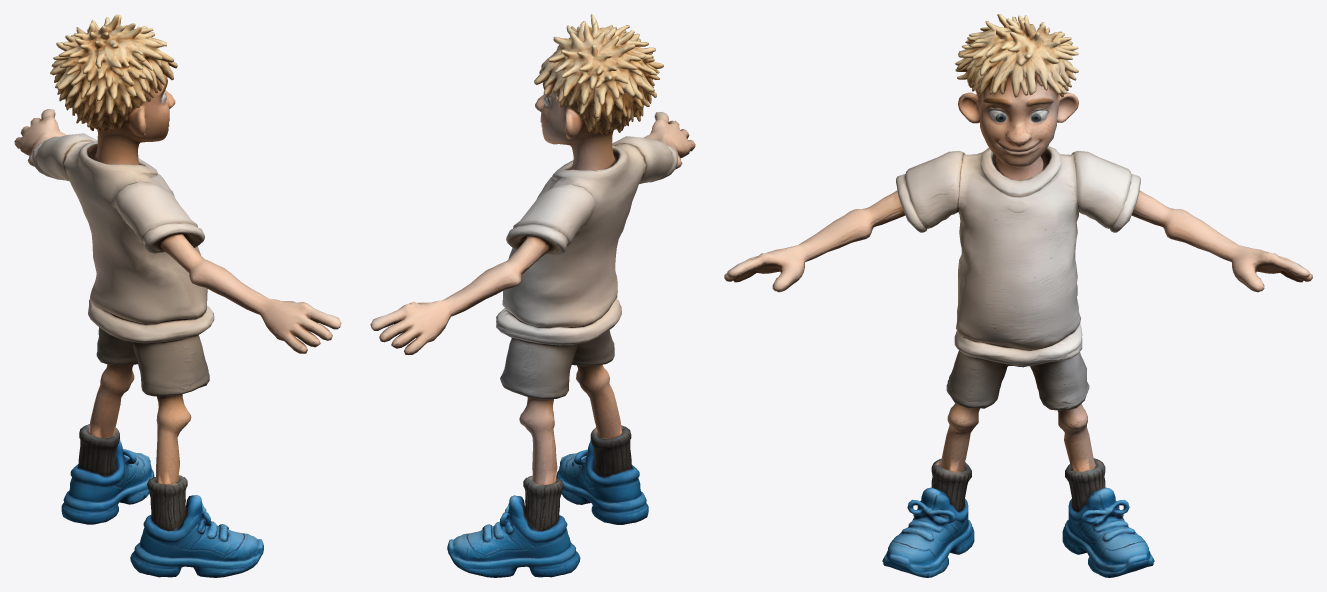
The picture shows the model from 3 angles, left to right: view 1: azimuth 30°, elevation 25°; view 2: azimuth 150°, elevation 25°; view 3: azimuth 270°, elevation 25°; orthographic projection.
Visible parts, largest first — view 1: tripo_node_18aa86af; view 2: tripo_node_18aa86af; view 3: tripo_node_18aa86af.
Boxes of the visible parts, x1,y1,x2,y2 form: tripo_node_18aa86af: (14, 14, 341, 577); tripo_node_18aa86af: (370, 14, 695, 577); tripo_node_18aa86af: (724, 14, 1312, 577).
Bounding box in the file's own units: 29.16 × 98.04 × 100.
Materials: 1 (1 with a texture image).
